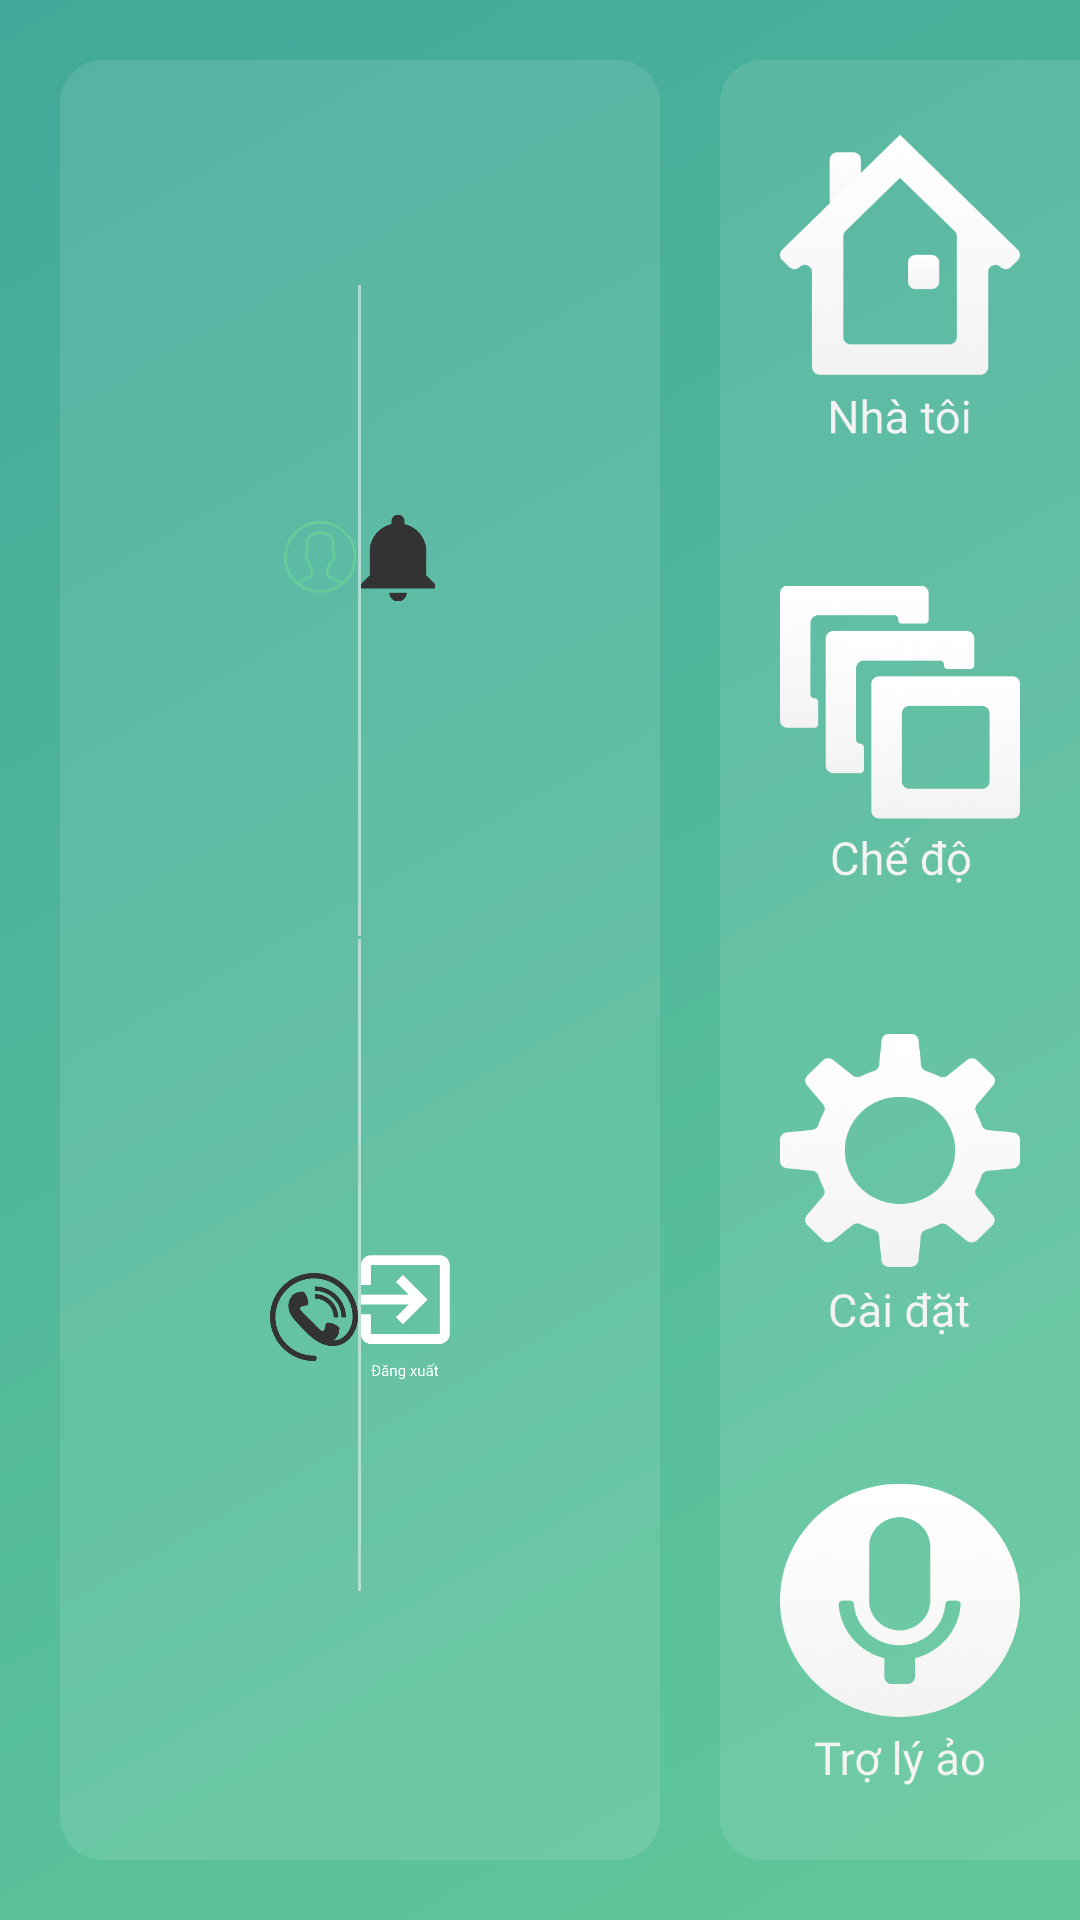

Where to tap for icons on this 1080 x 1920 app screen, as [x,y]:
bell: [398,558]
phone: [314,1317]
voice: [900,1634]
